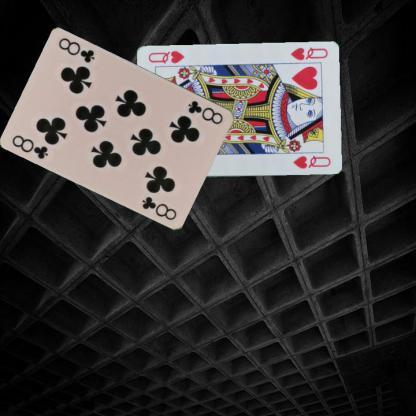8c: (9, 132, 50, 160), (185, 98, 225, 126)
Qh: (288, 44, 328, 62)
